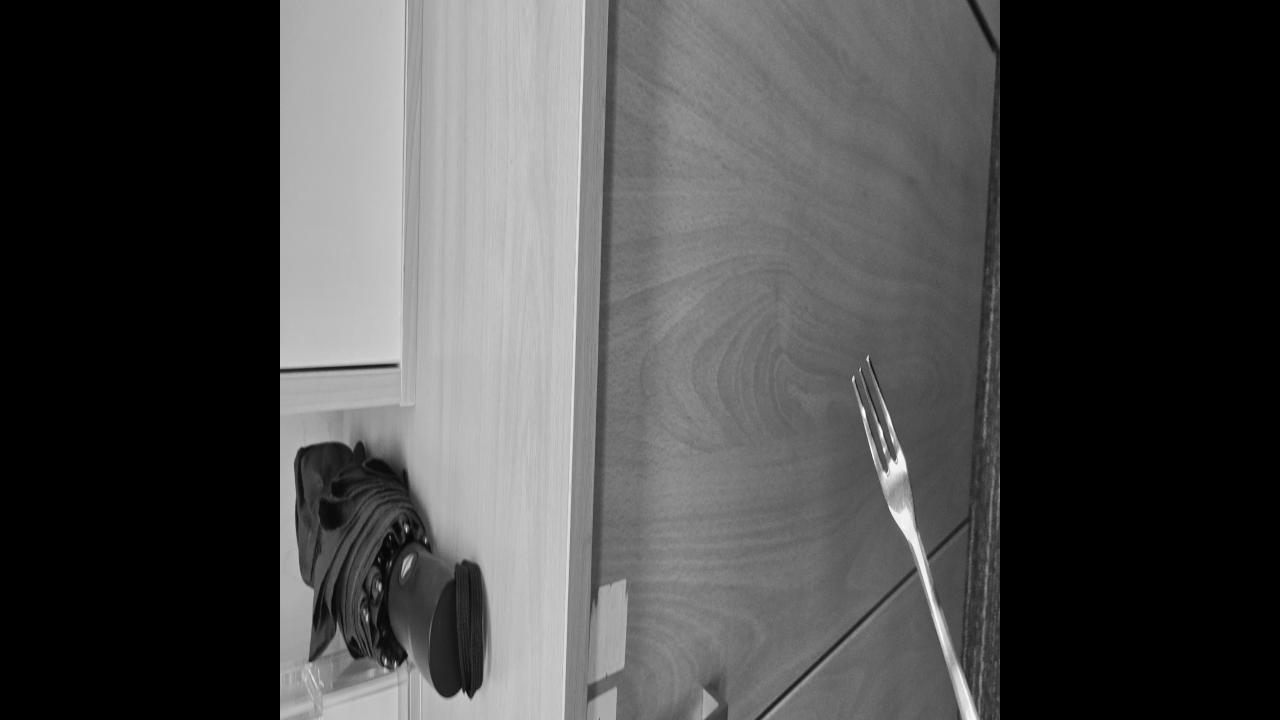fork: (851, 350, 1000, 720)
